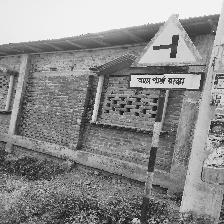Side-road-left: (127, 13, 207, 92)
